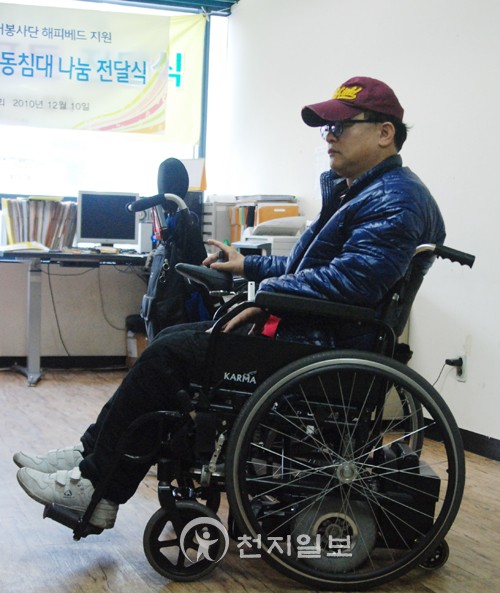wheelchair: (13, 75, 476, 580)
